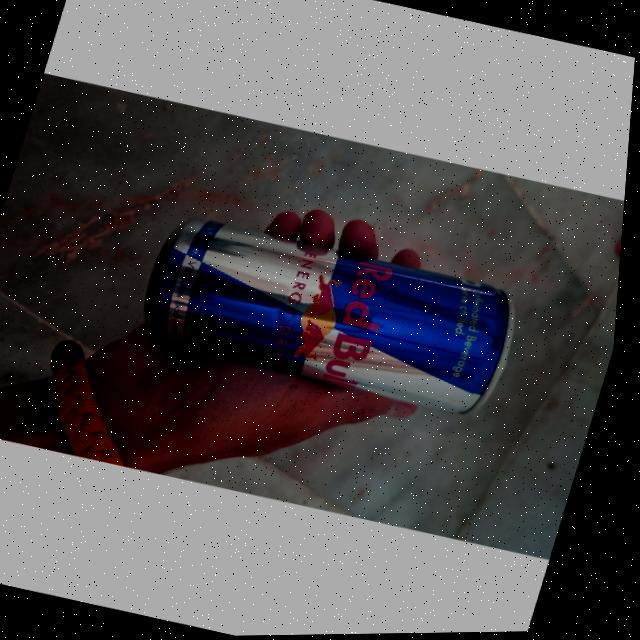Redbull: (136, 205, 547, 435)
